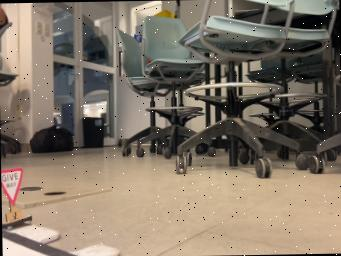give_way: (1, 167, 31, 229)
street: (2, 228, 78, 256)
